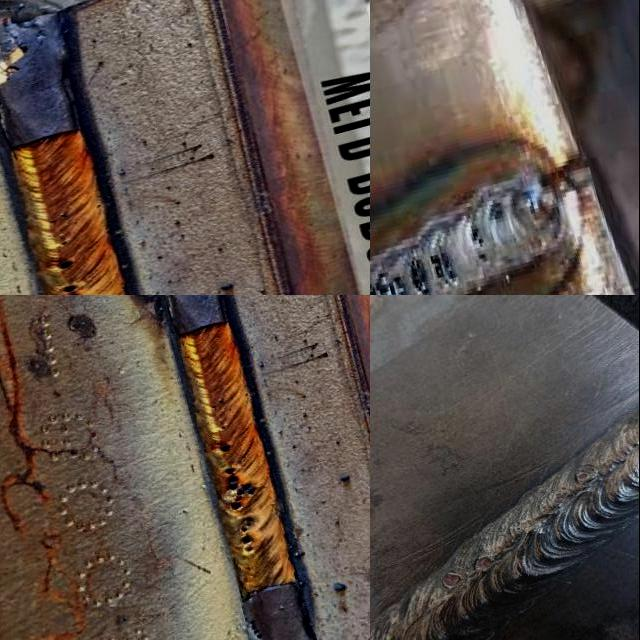defect: (222, 460, 265, 515), (426, 250, 460, 291), (403, 252, 435, 295), (371, 264, 412, 295), (235, 515, 259, 555), (466, 223, 490, 262), (441, 568, 465, 592), (473, 552, 498, 574), (244, 618, 266, 640), (573, 465, 599, 483), (548, 490, 571, 508), (217, 440, 234, 460), (47, 212, 69, 227), (508, 521, 527, 537), (56, 257, 79, 270), (56, 239, 70, 250)
